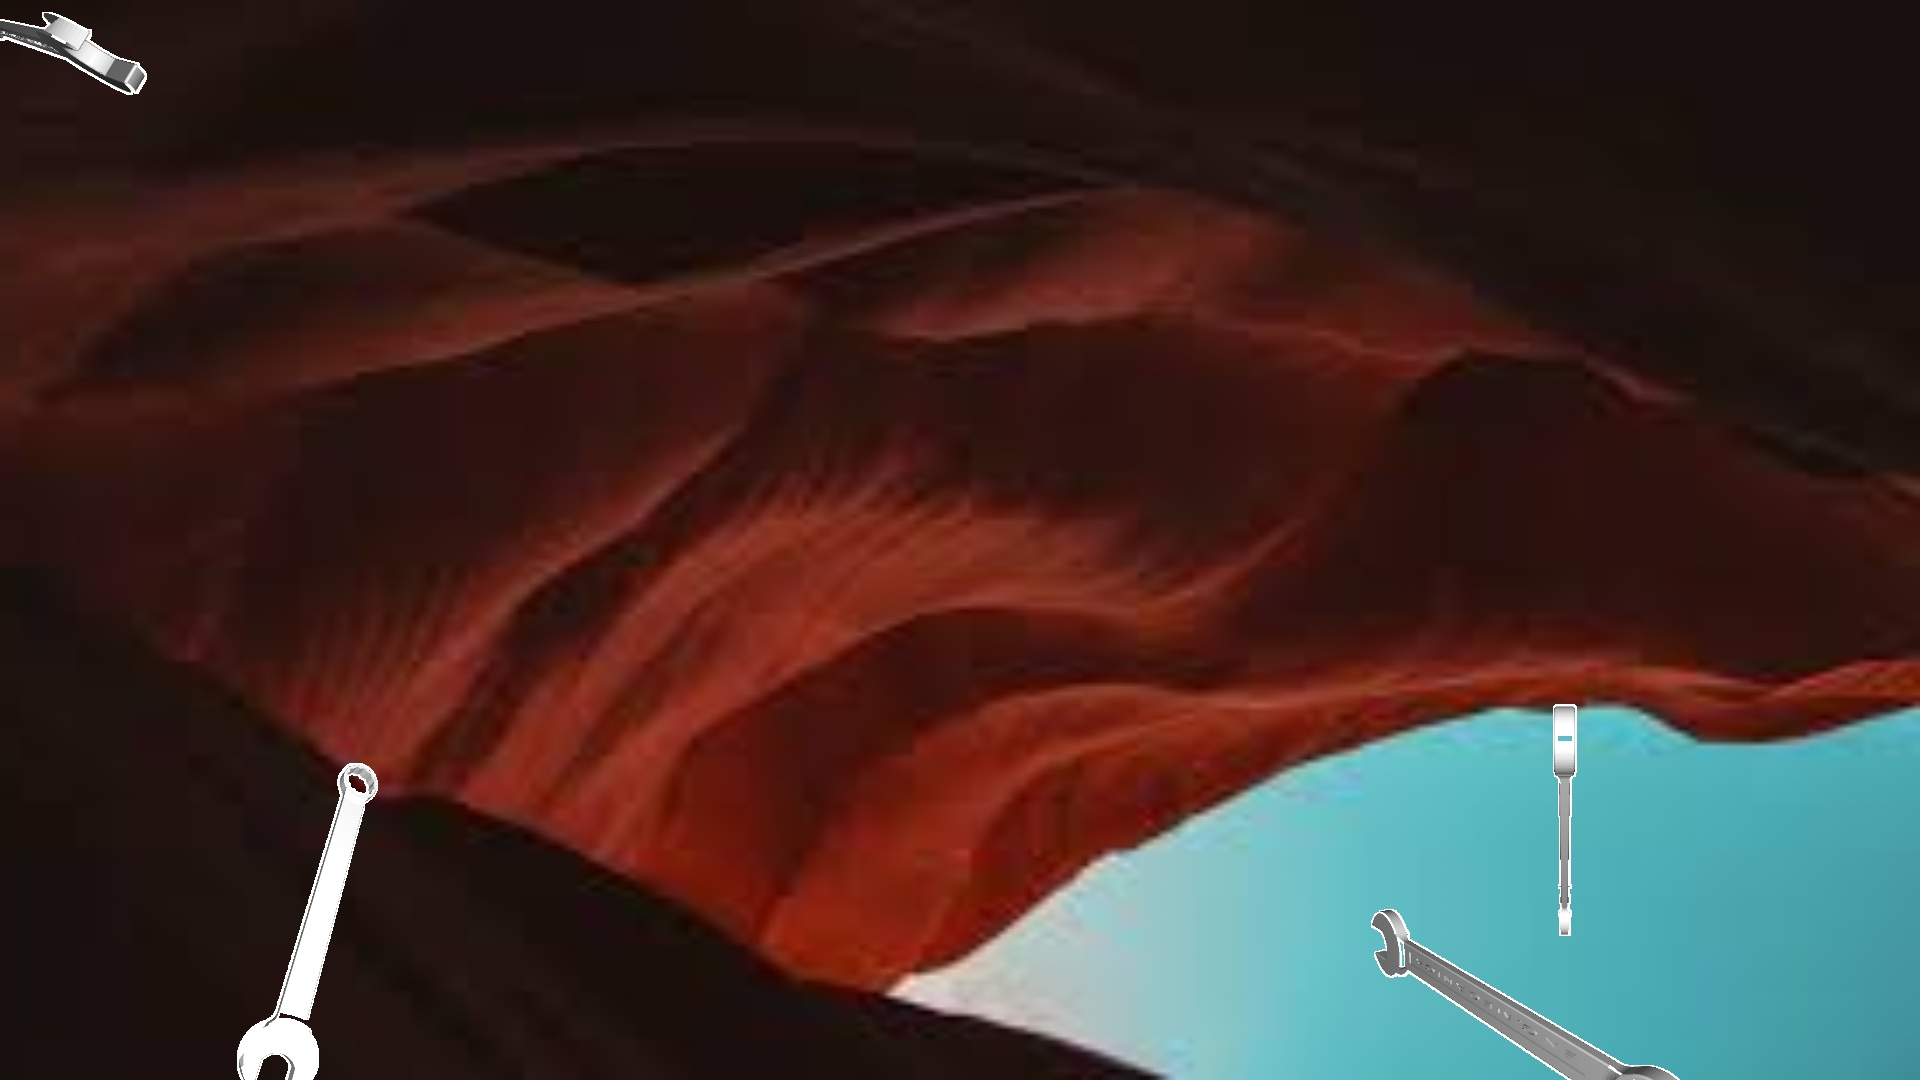Mixed Key: (1371, 909, 1679, 1079), (237, 764, 377, 1079), (0, 12, 146, 94), (1553, 704, 1576, 935)
